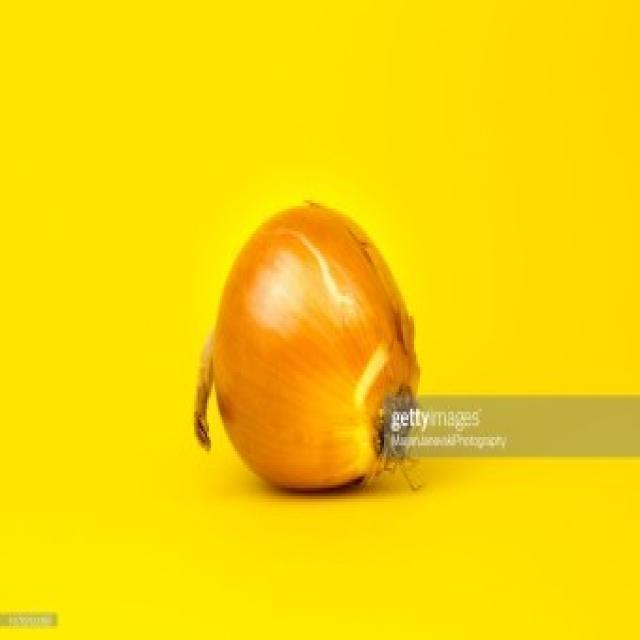Onion: (193, 203, 421, 496)
